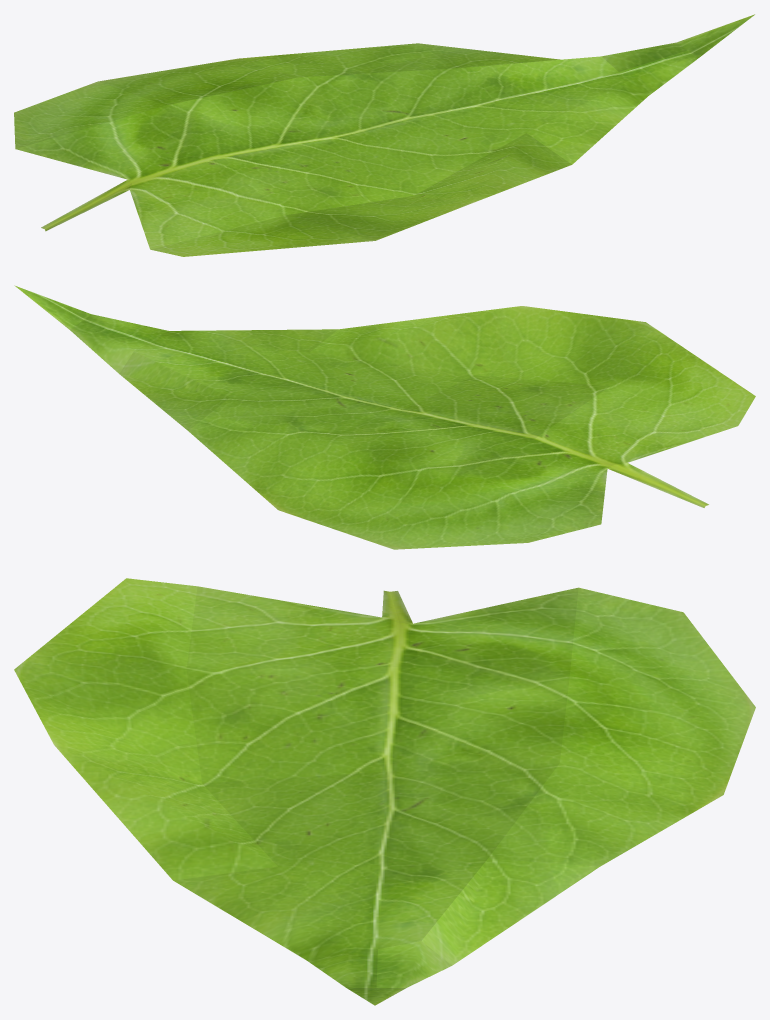
The model's file is leaf.glb.
3 renders of one model, top to bottom at view 1: azimuth 30°, elevation 25°; view 2: azimuth 150°, elevation 25°; view 3: azimuth 270°, elevation 25°, orthographic. The views are drawn at different scales.
Parts seen in each view (by area): view 1: Plane; view 2: Plane; view 3: Plane.
Part boxes in pixels (x1,y1,x2,y2): Plane: [14, 14, 754, 256]; Plane: [14, 285, 755, 549]; Plane: [14, 578, 755, 1005].
Bounding box in the file's own units: 2.33 × 0.1487 × 1.52.
Materials: 1 (1 with a texture image).
